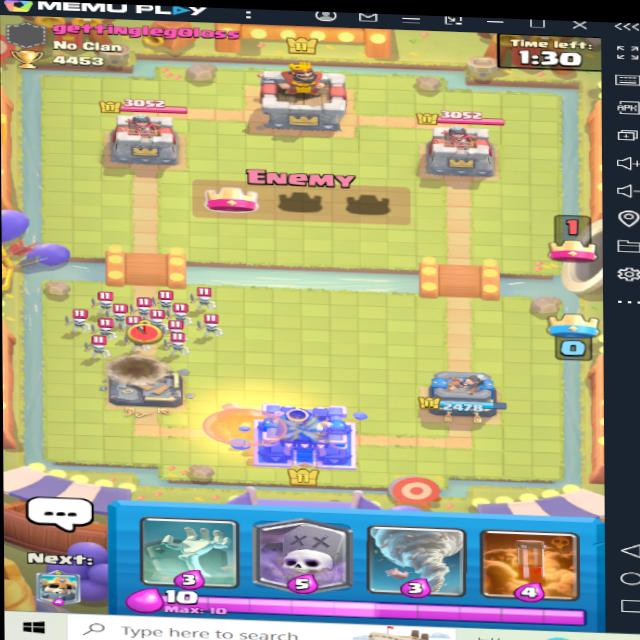skeleton: (68, 306, 100, 335), (198, 315, 226, 347), (86, 334, 116, 362), (148, 289, 180, 310), (129, 297, 158, 317), (192, 284, 216, 308), (94, 290, 119, 311), (169, 302, 195, 322), (166, 330, 187, 353), (97, 318, 121, 337), (148, 309, 172, 328)
